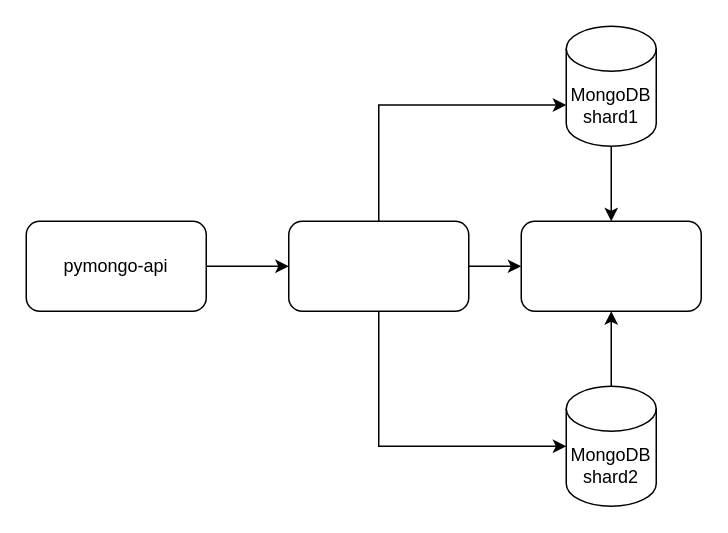
The diagram is 728 pixels wide and 533 high, and some of its shapes have lost their labels. Here are the shapes that lost their labels. From the top down, the centre of each, then its label:
At point (378, 265): "Роутер MongoDB".
At point (610, 265): "Конфигурационный сервер ConfigSrv".
